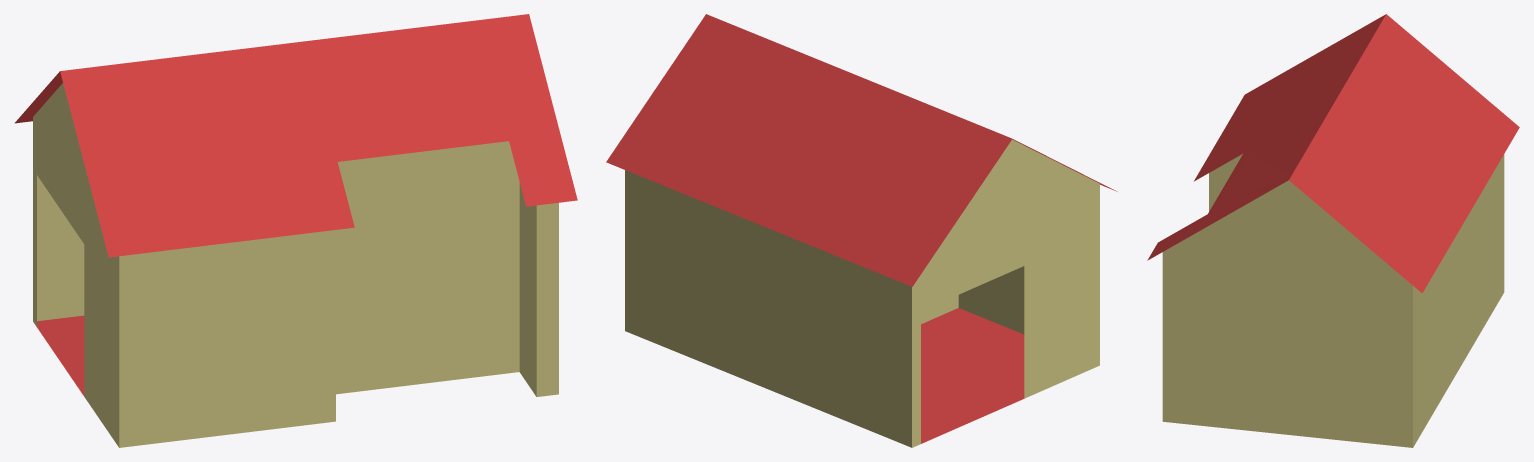
3 renders of one model, left to right at view 1: azimuth 30°, elevation 25°; view 2: azimuth 150°, elevation 25°; view 3: azimuth 270°, elevation 25°, orthographic. The views are drawn at different scales.
Bounding box in the file's own units: 18.16 × 14.66 × 11.3.
